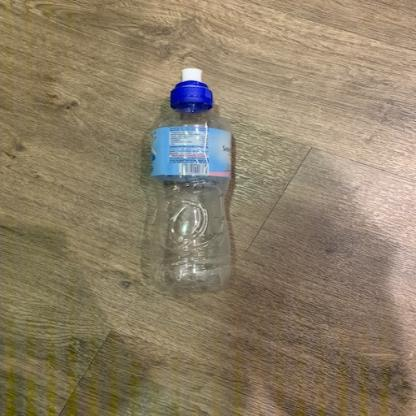trash: (149, 68, 235, 294)
